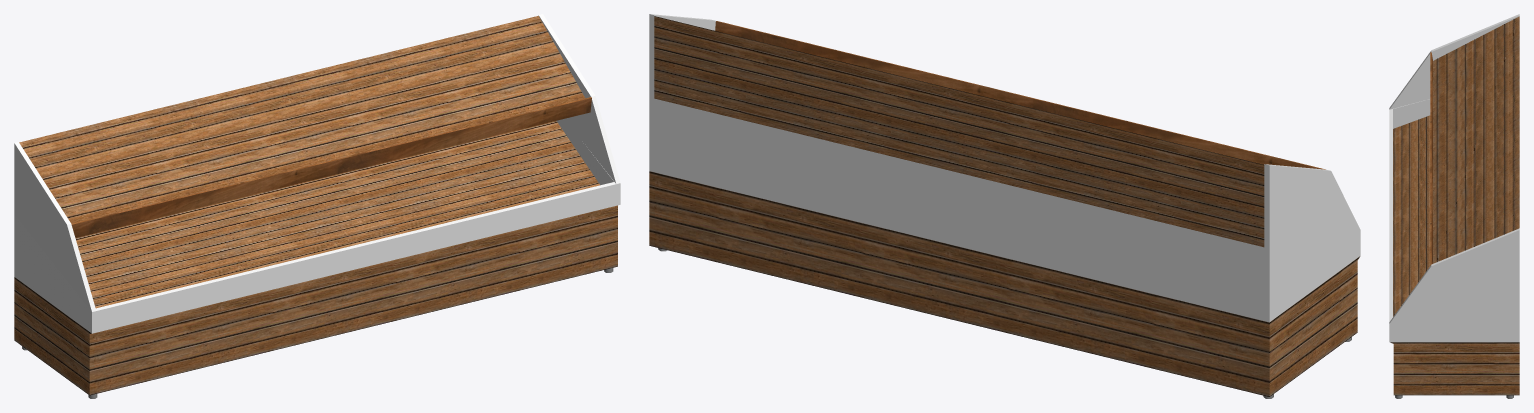
Rendered from ray_store_fruits_003.FBX.
3 views of the same model, side by side, from view 1: azimuth 30°, elevation 25°; view 2: azimuth 150°, elevation 25°; view 3: azimuth 270°, elevation 25° (orthographic). The views are drawn at different scales.
Visible parts, largest first — view 1: ray_store_fruits_003; view 2: ray_store_fruits_003; view 3: ray_store_fruits_003.
Boxes of the visible parts, box(x1,y1,x2,y2) form: ray_store_fruits_003: box(14, 14, 620, 398); ray_store_fruits_003: box(649, 14, 1360, 398); ray_store_fruits_003: box(1389, 14, 1519, 398).
Size of the model in its own units: 4.92 by 1.8 by 1.25.
